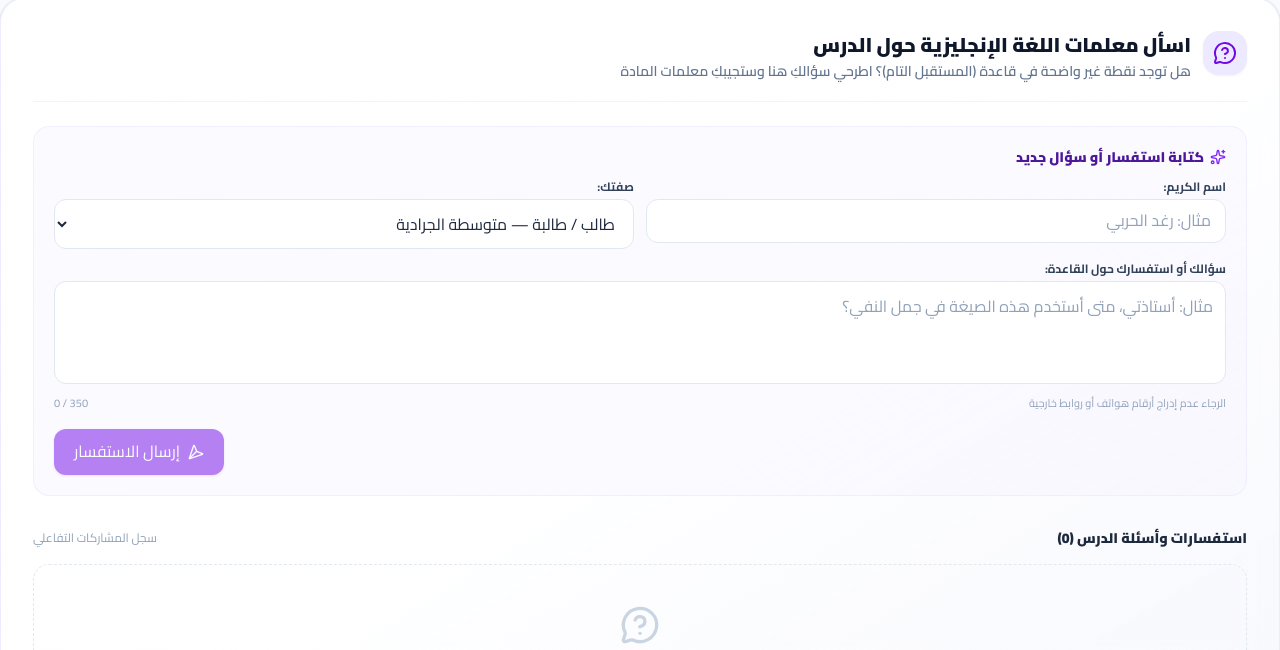
Scenario: LessonDiscussion component › allows student to submit a valid question
The image size is (1280, 650).
Type "فاطمة محمد" into the field labelled "اسم الكريم:".
click(936, 221); type("فاطمة محمد")  # box [646, 199, 1226, 243]
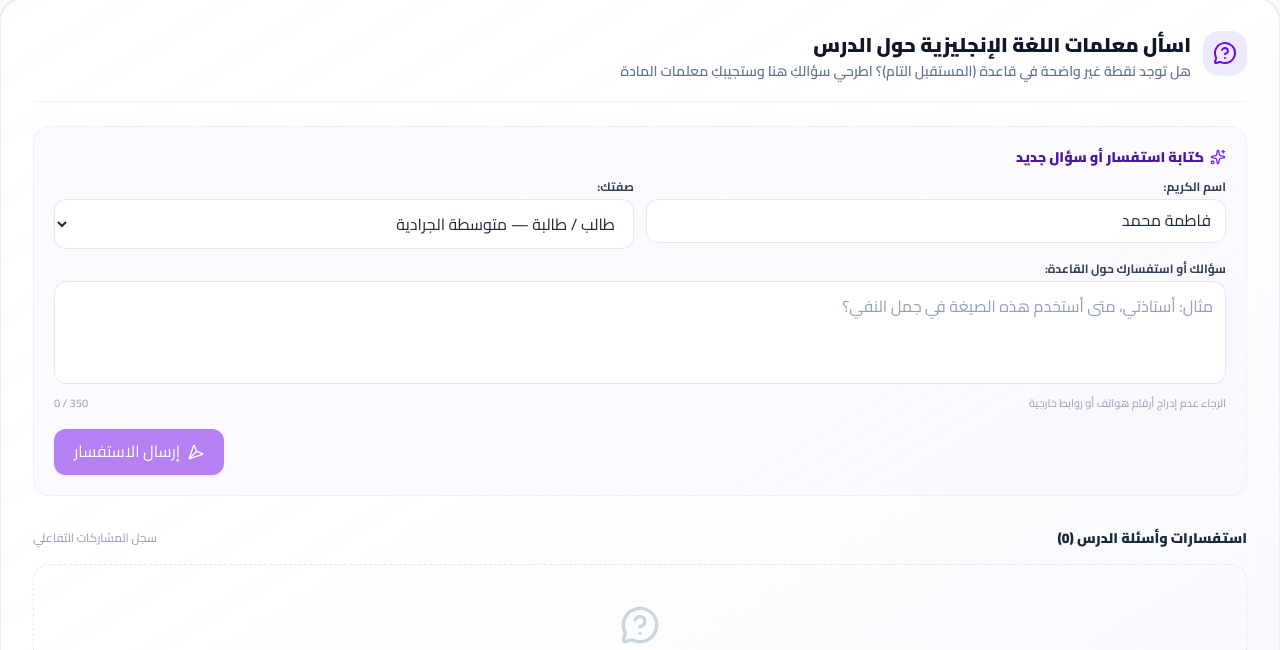
Type "كيف نفرق بين المستقبل التام والمستقبل البسيط؟" into the text box labelled "سؤالك أو استفسارك حول القاعدة:".
click(640, 332); type("كيف نفرق بين المستقبل التام والمستقبل البسيط؟")  # box [54, 281, 1226, 384]
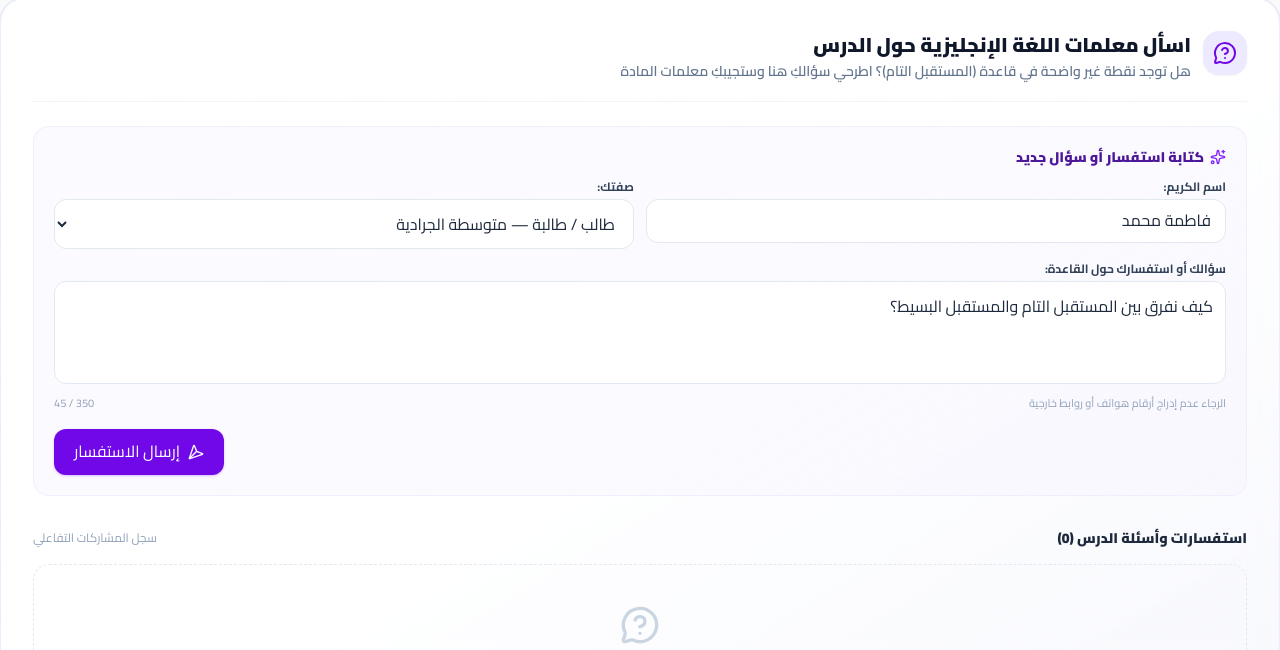
Click the button "إرسال الاستفسار".
click(139, 452)  # box [54, 429, 224, 475]
(page scrolled)
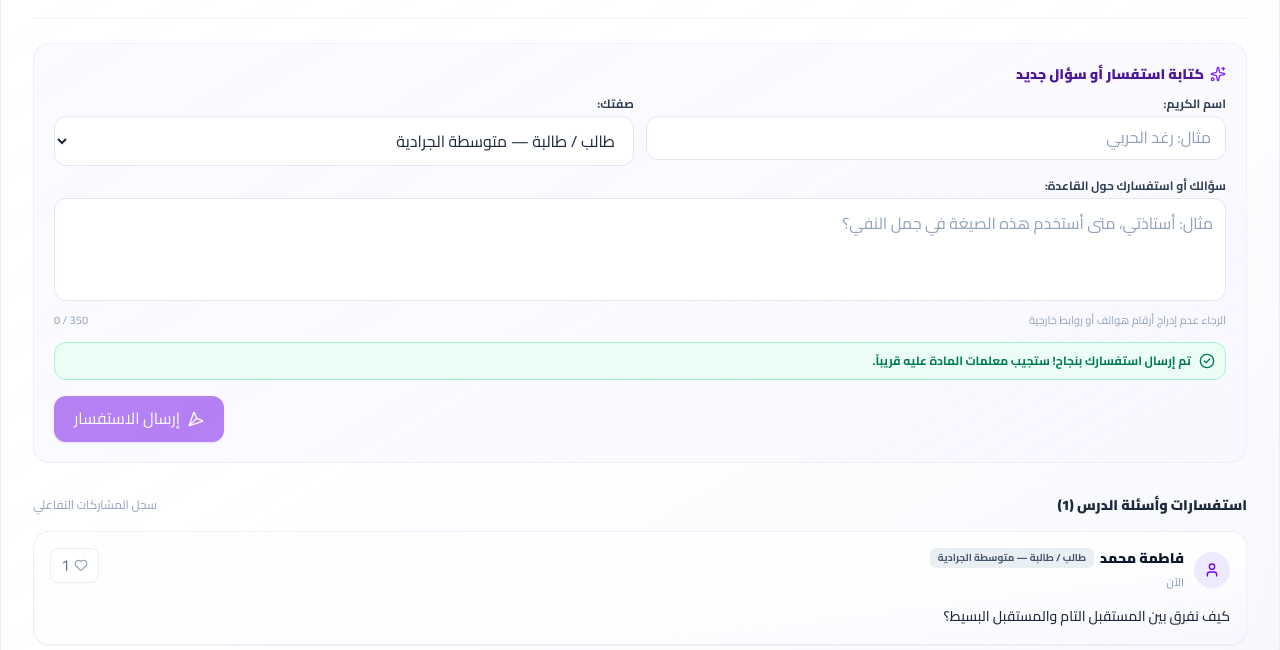
Now the text "فاطمة محمد" is shown, box [1100, 548, 1184, 568]
Now the text "كيف نفرق بين المستقبل التام والمستقبل البسيط؟" is shown, box [944, 603, 1230, 629]
